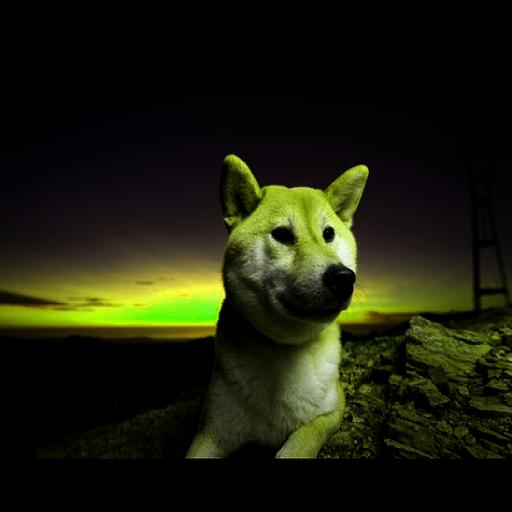dog_face: (216, 157, 367, 316)
